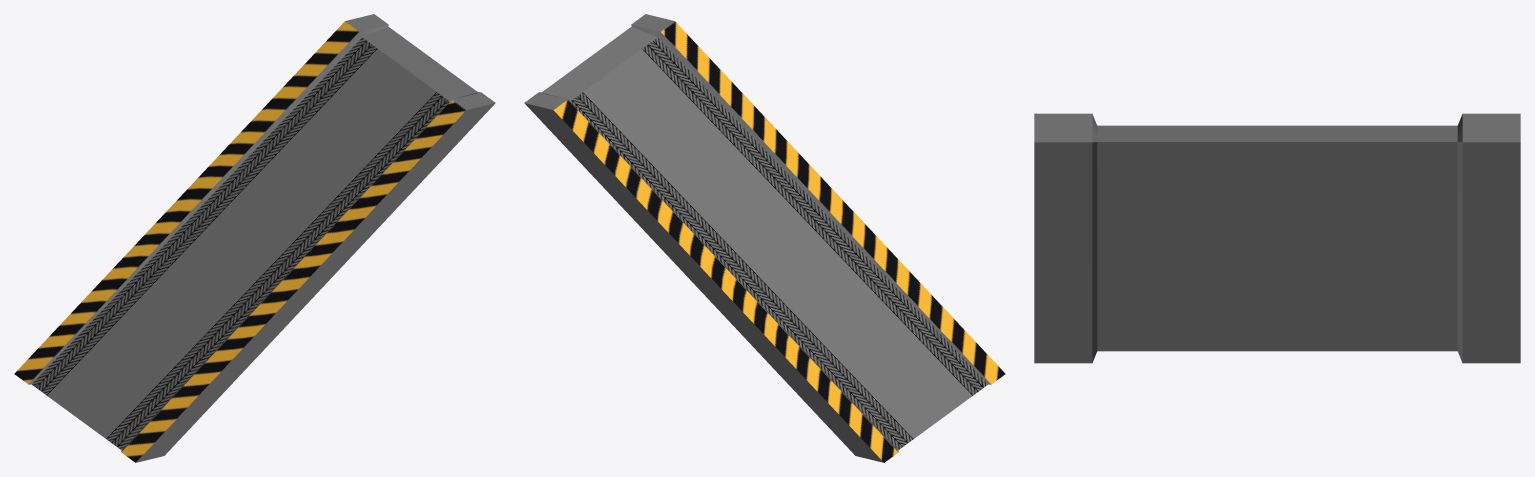
File: SM_B_Stairs4.fbx
3 views of the same model, side by side, from view 1: azimuth 30°, elevation 25°; view 2: azimuth 150°, elevation 25°; view 3: azimuth 270°, elevation 25° (orthographic). The views are drawn at different scales.
Parts seen in each view (by area): view 1: SM_B_Stairs4; view 2: SM_B_Stairs4; view 3: SM_B_Stairs4.
Boxes of the visible parts, box(x1,y1,x2,y2) form: SM_B_Stairs4: box(14, 14, 495, 462); SM_B_Stairs4: box(524, 14, 1005, 462); SM_B_Stairs4: box(1034, 113, 1520, 363).
Bounding box in the file's own units: 467 × 273 × 337.
